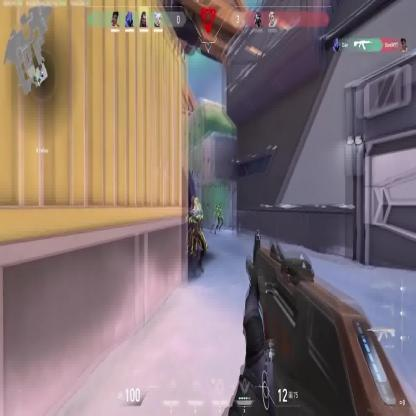enemy: (189, 196, 209, 274), (214, 202, 224, 235)
enemy_head: (194, 197, 201, 210), (218, 202, 223, 210)
